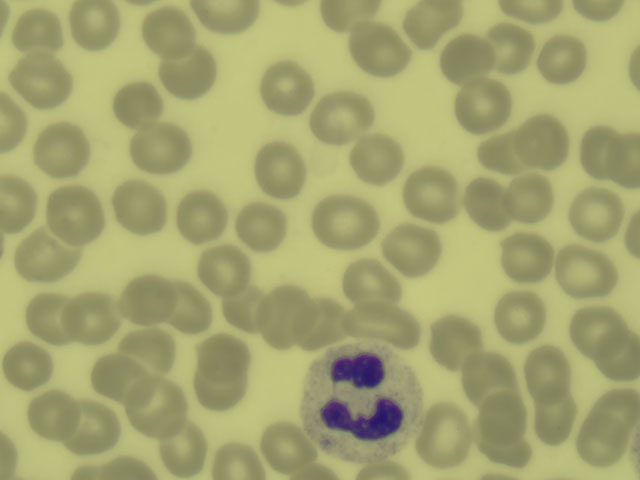RBC: (581, 413, 640, 476), (313, 201, 382, 251), (126, 378, 188, 431), (345, 304, 422, 346), (189, 363, 254, 412), (130, 122, 192, 172), (161, 45, 216, 97), (570, 189, 621, 245), (492, 292, 545, 345), (538, 36, 589, 90), (426, 401, 467, 467), (351, 28, 405, 77), (263, 293, 311, 348), (384, 225, 440, 272), (21, 233, 76, 280), (9, 56, 66, 101), (54, 188, 102, 240), (456, 82, 508, 130), (312, 97, 370, 140), (237, 204, 287, 253), (519, 118, 569, 167), (65, 292, 116, 340), (121, 278, 172, 326), (72, 1, 119, 53), (598, 325, 640, 382), (498, 237, 552, 281), (557, 251, 611, 295), (71, 405, 120, 453), (116, 183, 167, 229), (406, 172, 459, 216), (474, 426, 535, 464), (39, 124, 87, 172), (256, 145, 305, 192), (569, 307, 621, 351), (405, 1, 468, 37), (264, 63, 311, 111), (3, 343, 52, 389), (200, 247, 249, 293), (463, 180, 509, 229), (301, 301, 351, 346), (528, 345, 565, 405), (177, 194, 227, 238), (170, 287, 216, 334), (260, 423, 315, 462), (144, 7, 190, 53), (486, 26, 530, 74), (88, 359, 144, 396), (213, 442, 267, 480), (344, 260, 394, 301), (29, 294, 73, 340), (483, 391, 524, 440), (14, 11, 65, 50), (509, 178, 553, 223), (437, 316, 481, 361), (200, 335, 249, 375), (538, 387, 574, 441), (124, 332, 176, 369), (2, 174, 35, 232), (111, 82, 159, 121), (198, 1, 259, 31), (466, 356, 517, 391), (219, 288, 259, 332), (603, 139, 640, 186), (446, 39, 488, 80), (34, 390, 73, 434), (165, 426, 202, 472), (598, 389, 640, 427), (581, 129, 614, 175), (358, 142, 398, 178), (575, 1, 631, 26), (105, 453, 154, 480), (1, 96, 24, 153), (324, 1, 378, 25), (500, 2, 563, 22), (284, 454, 335, 478), (481, 135, 516, 167), (351, 461, 410, 478), (620, 212, 640, 260), (1, 434, 16, 476)
WBC: (307, 346, 423, 456)
